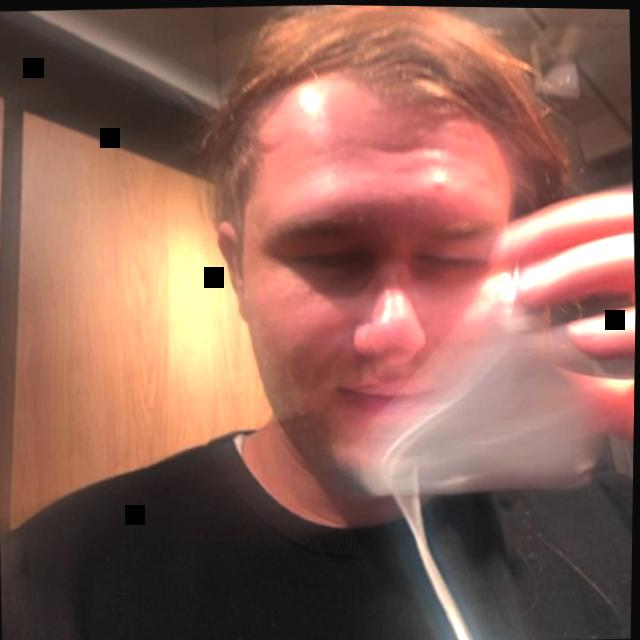NO-Mask: (175, 2, 568, 517)
